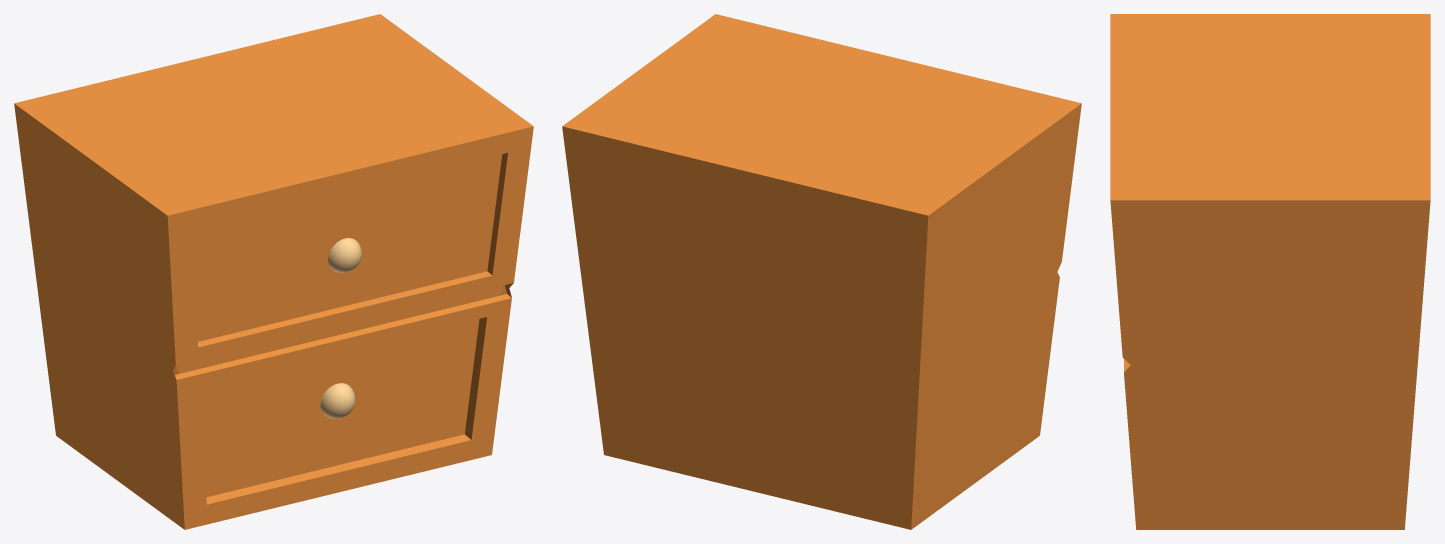
Rendered from komodin.fbx.
The picture shows the model from 3 angles, left to right: view 1: azimuth 30°, elevation 25°; view 2: azimuth 150°, elevation 25°; view 3: azimuth 270°, elevation 25°; orthographic projection. The views are drawn at different scales.
Visible parts, largest first — view 1: Sphere.001; view 2: Sphere.001; view 3: Sphere.001.
Part boxes in pixels (x1,y1,x2,y2): Sphere.001: (14,14,533,529); Sphere.001: (562,14,1081,529); Sphere.001: (1110,14,1430,529).
Size of the model in its own units: 135 by 97.93 by 116.
